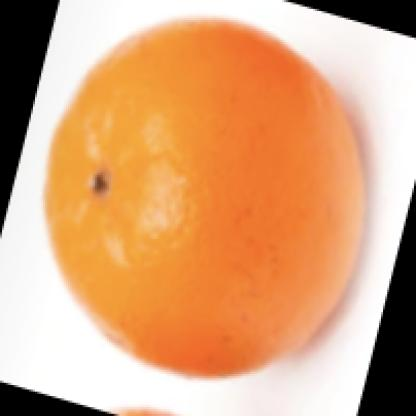fresh: (48, 20, 367, 382)
